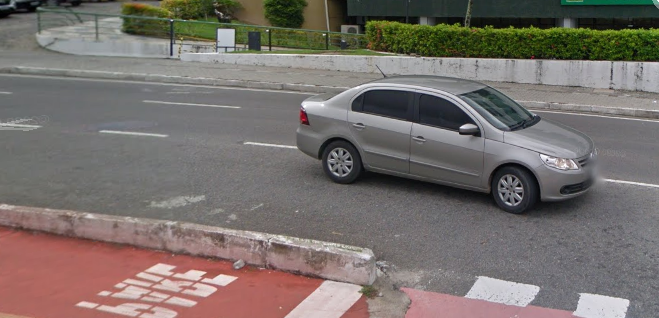car: (295, 61, 601, 216)
